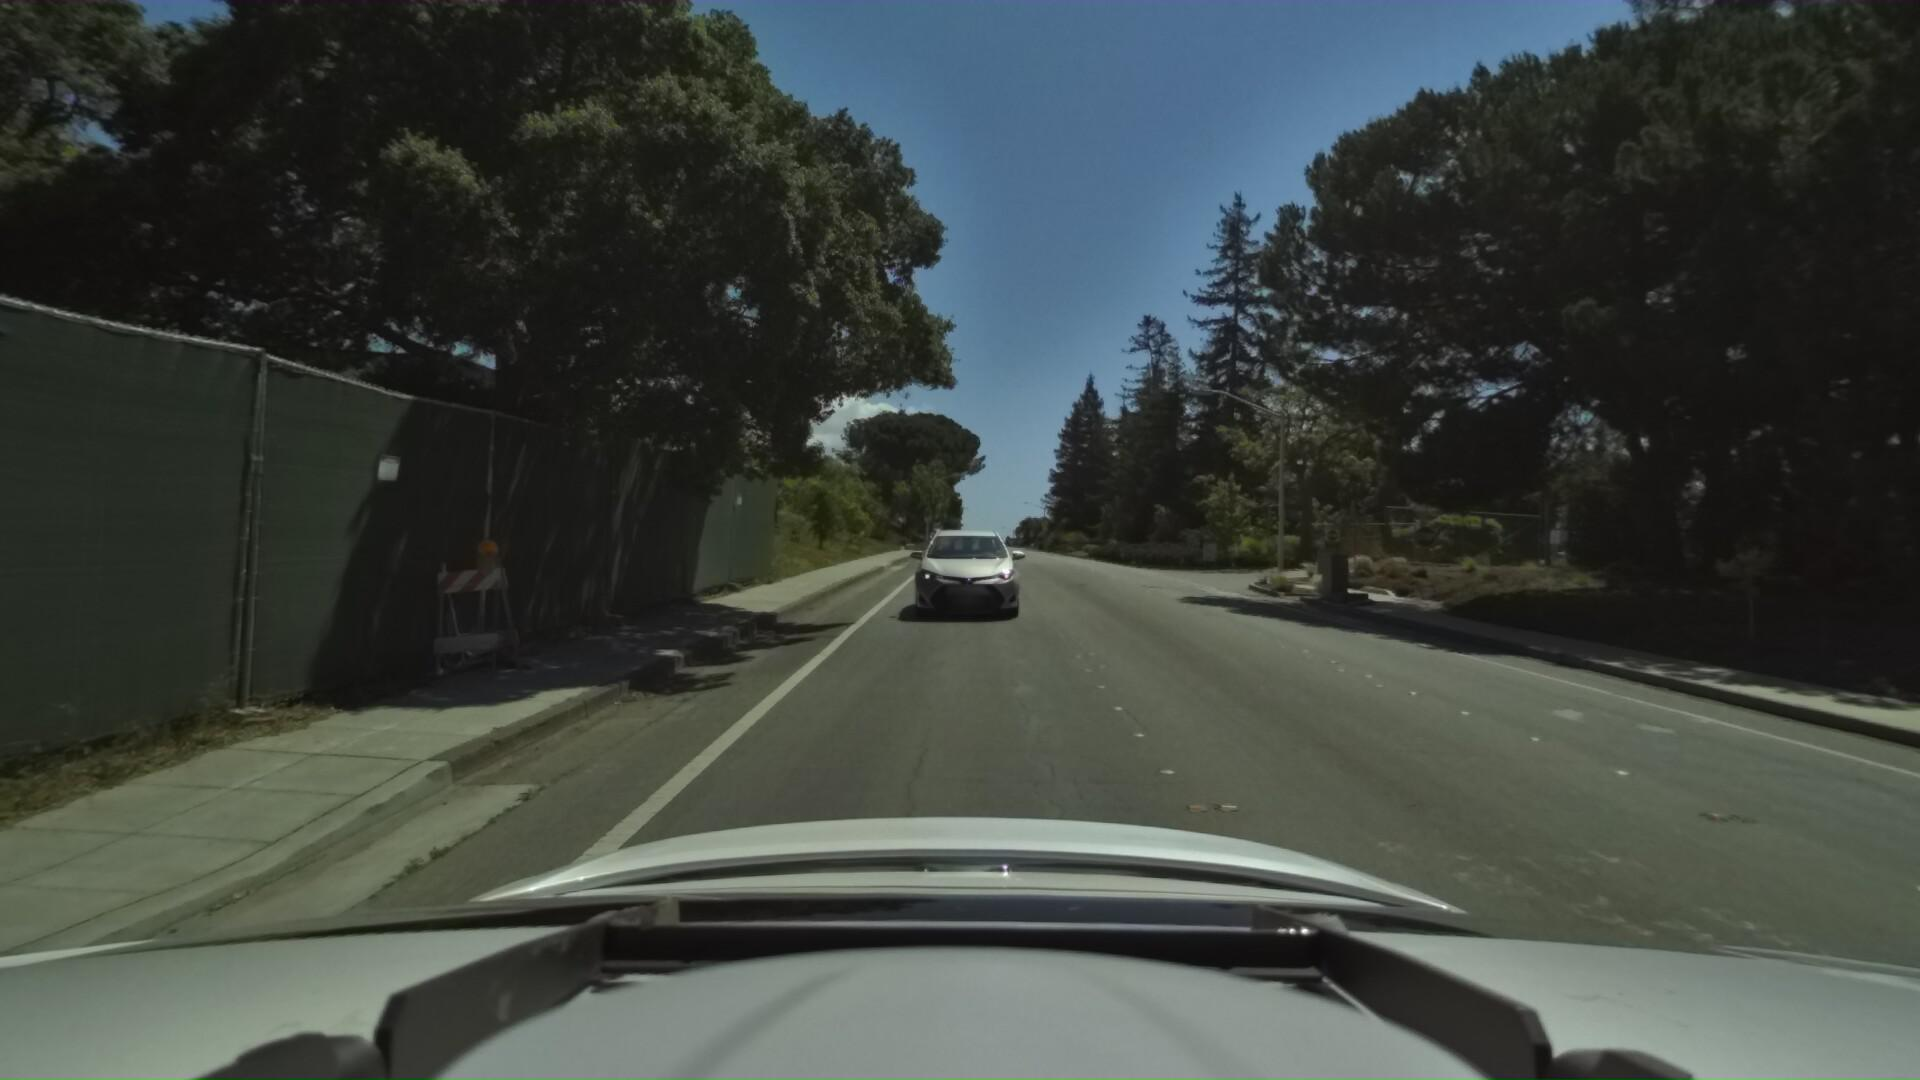car: (902, 508, 1025, 618), (930, 516, 977, 560)
